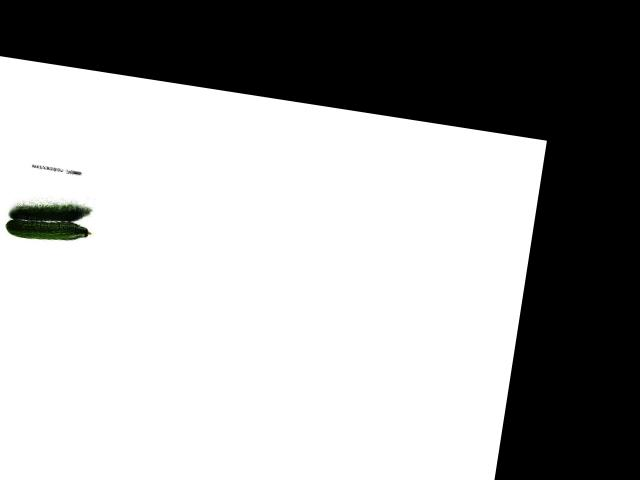cucumber: (5, 212, 92, 247)
